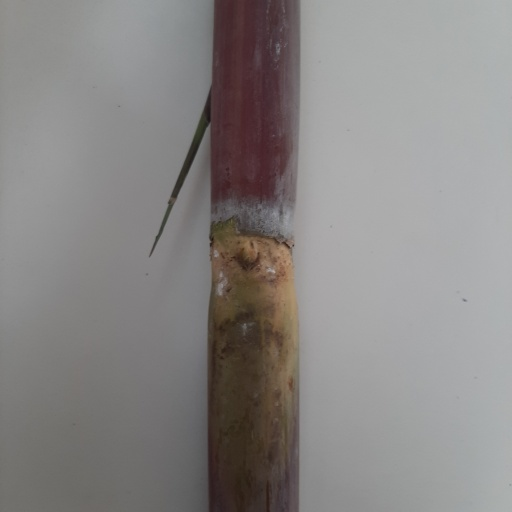Bud: (236, 239, 263, 273)
